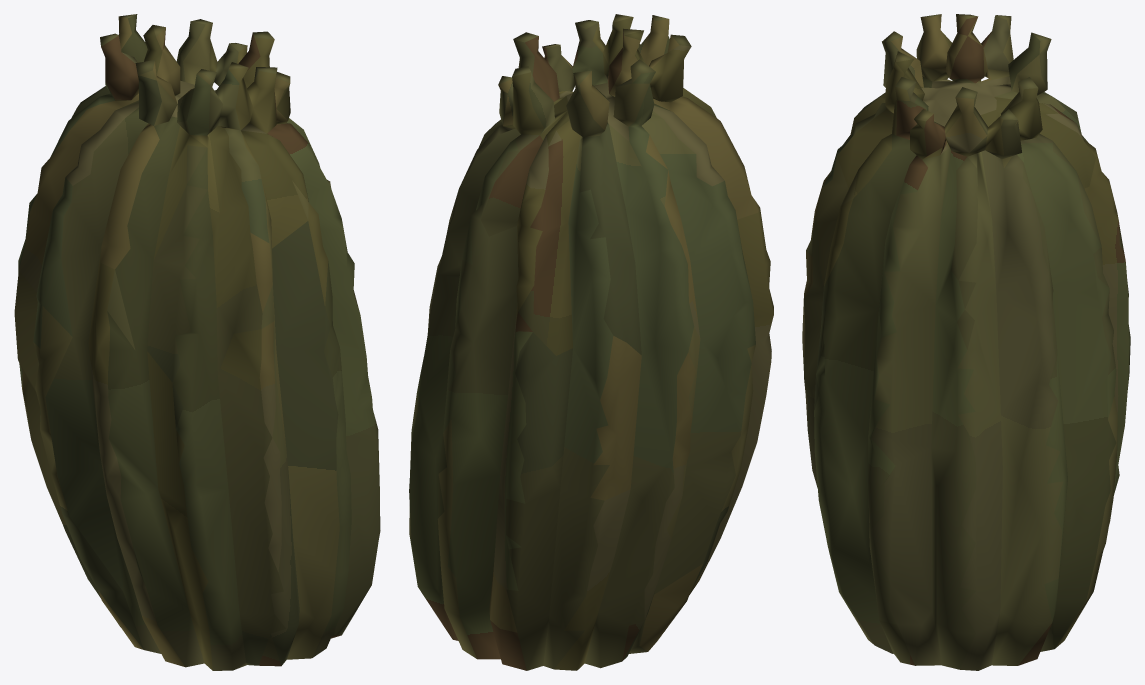
Rendered from barrel_cactus.glb.
3 renders of one model, left to right at view 1: azimuth 30°, elevation 25°; view 2: azimuth 150°, elevation 25°; view 3: azimuth 270°, elevation 25°, orthographic. The views are drawn at different scales.
Parts seen in each view (by area): view 1: LO.001; view 2: LO.001; view 3: LO.001.
Boxes of the visible parts, x1=… form: LO.001: x1=14, y1=14, x2=380, y2=670; LO.001: x1=409, y1=14, x2=773, y2=670; LO.001: x1=802, y1=14, x2=1130, y2=670.
Bounding box in the file's own units: 0.4838 × 0.8986 × 0.4594.
1 material, 1 textured.
